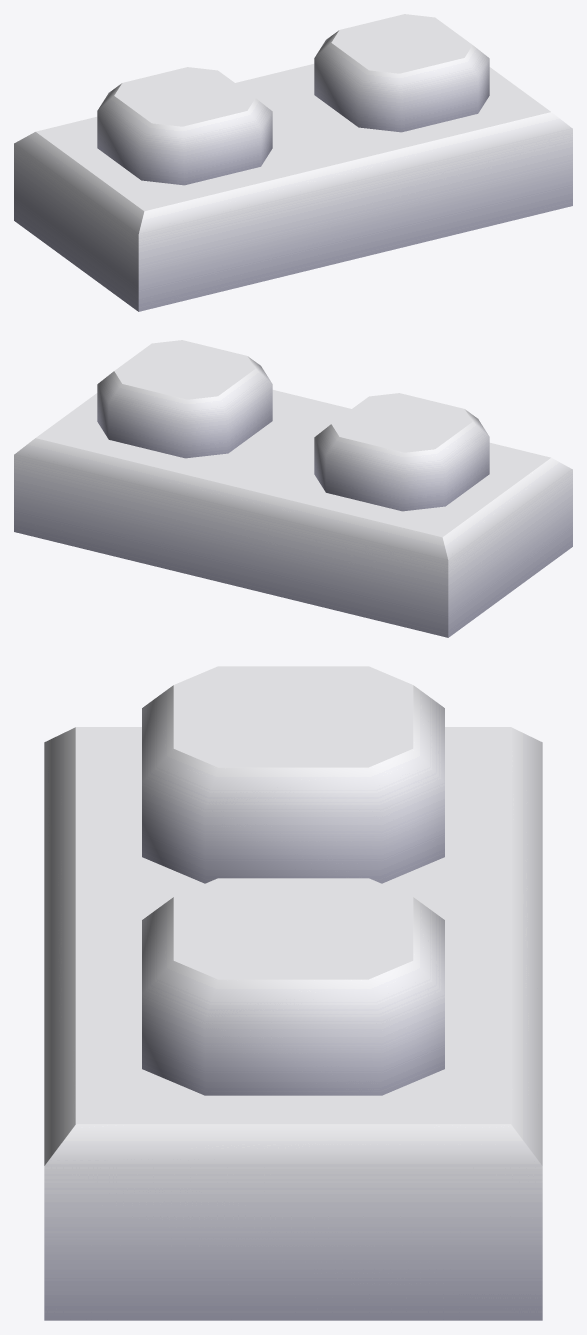
Rendered from bevel-hq-plate-1x2.glb.
3 renders of one model, top to bottom at view 1: azimuth 30°, elevation 25°; view 2: azimuth 150°, elevation 25°; view 3: azimuth 270°, elevation 25°, orthographic. The views are drawn at different scales.
Parts seen in each view (by area): view 1: bevel-hq-plate-1x2; view 2: bevel-hq-plate-1x2; view 3: bevel-hq-plate-1x2.
Boxes of the visible parts, bbox=[...] form: bevel-hq-plate-1x2: bbox=[14, 14, 572, 311]; bevel-hq-plate-1x2: bbox=[14, 340, 572, 637]; bevel-hq-plate-1x2: bbox=[44, 666, 542, 1320].
Bounding box in the file's own units: 0.159 × 0.05 × 0.079.
Materials: 1 (1 with a texture image).
